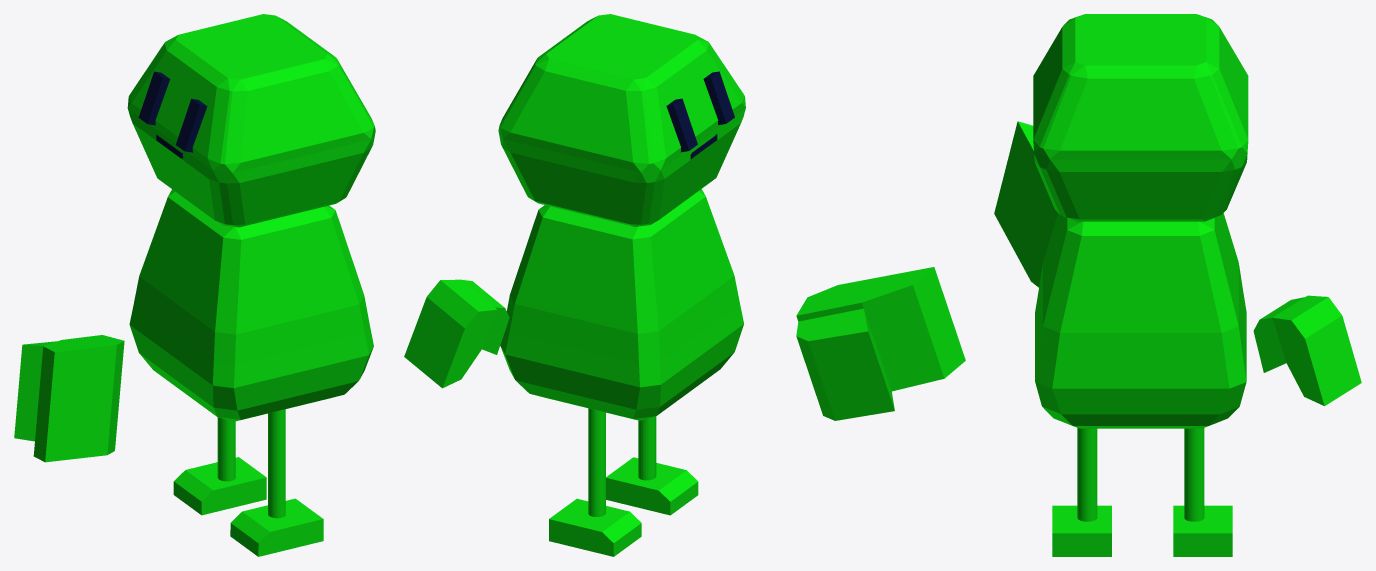
Rendered from player_green_slap2.gltf.
The picture shows the model from 3 angles, left to right: view 1: azimuth 30°, elevation 25°; view 2: azimuth 150°, elevation 25°; view 3: azimuth 270°, elevation 25°; orthographic projection. The views are drawn at different scales.
Parts seen in each view (by area): view 1: body.006, head.006, hand right.005, foot right.006, foot left.006, leg right.006, leg left.006, Cube.023, Cube.024; view 2: body.006, head.006, hand right.005, hand left.005, foot left.006, foot right.006, leg left.006, leg right.006, Cube.023, Cube.024; view 3: body.006, head.006, hand left.005, hand right.005, foot left.006, foot right.006, leg left.006, leg right.006.
Part boxes in pixels (<box>): body.006: <box>129,189,373,421</box>; head.006: <box>127,14,375,227</box>; hand right.005: <box>14,335,124,462</box>; foot right.006: <box>230,498,323,556</box>; foot left.006: <box>173,457,266,515</box>; leg right.006: <box>268,409,285,518</box>; leg left.006: <box>217,417,235,481</box>; Cube.023: <box>138,71,169,125</box>; Cube.024: <box>176,98,207,152</box>; body.006: <box>500,189,743,420</box>; head.006: <box>498,14,745,226</box>; hand right.005: <box>796,267,965,420</box>; hand left.005: <box>404,279,509,388</box>; foot left.006: <box>549,498,641,556</box>; foot right.006: <box>606,457,698,515</box>; leg left.006: <box>588,408,605,516</box>; leg right.006: <box>638,416,656,480</box>; Cube.023: <box>666,98,697,152</box>; Cube.024: <box>703,71,734,124</box>; body.006: <box>1035,213,1246,428</box>; head.006: <box>1033,14,1248,221</box>; hand left.005: <box>1253,295,1361,406</box>; hand right.005: <box>994,121,1057,287</box>; foot left.006: <box>1173,505,1232,556</box>; foot right.006: <box>1052,505,1111,556</box>; leg left.006: <box>1184,428,1204,521</box>; leg right.006: <box>1077,428,1097,521</box>.
Bounding box in the file's own units: 4.31 × 4.76 × 3.17.
